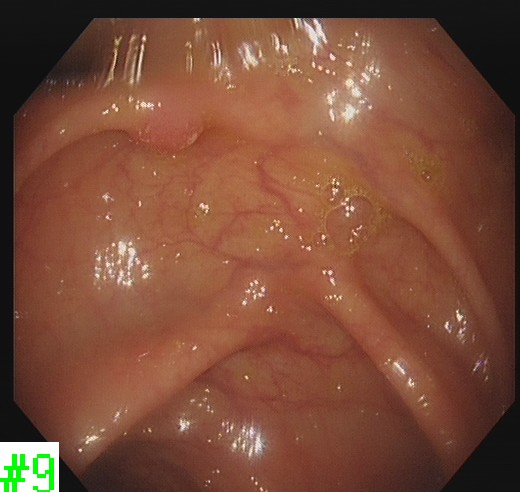adenoma: (118, 106, 210, 157)
